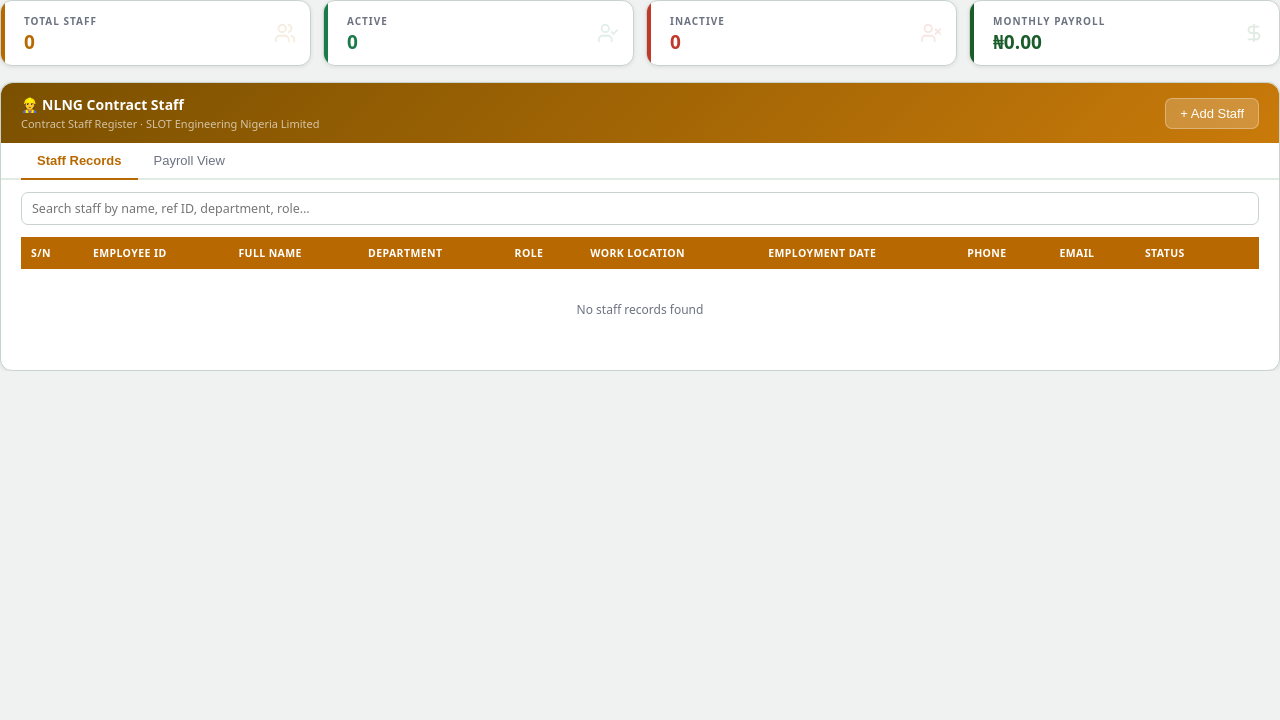
Test case: ContractStaff — Add Staff › renders the Project / Cost Centre dropdown in the Add Staff form without crashing
Click the button "+ Add Staff" at (1212, 113), box 1165,98 -> 1259,128
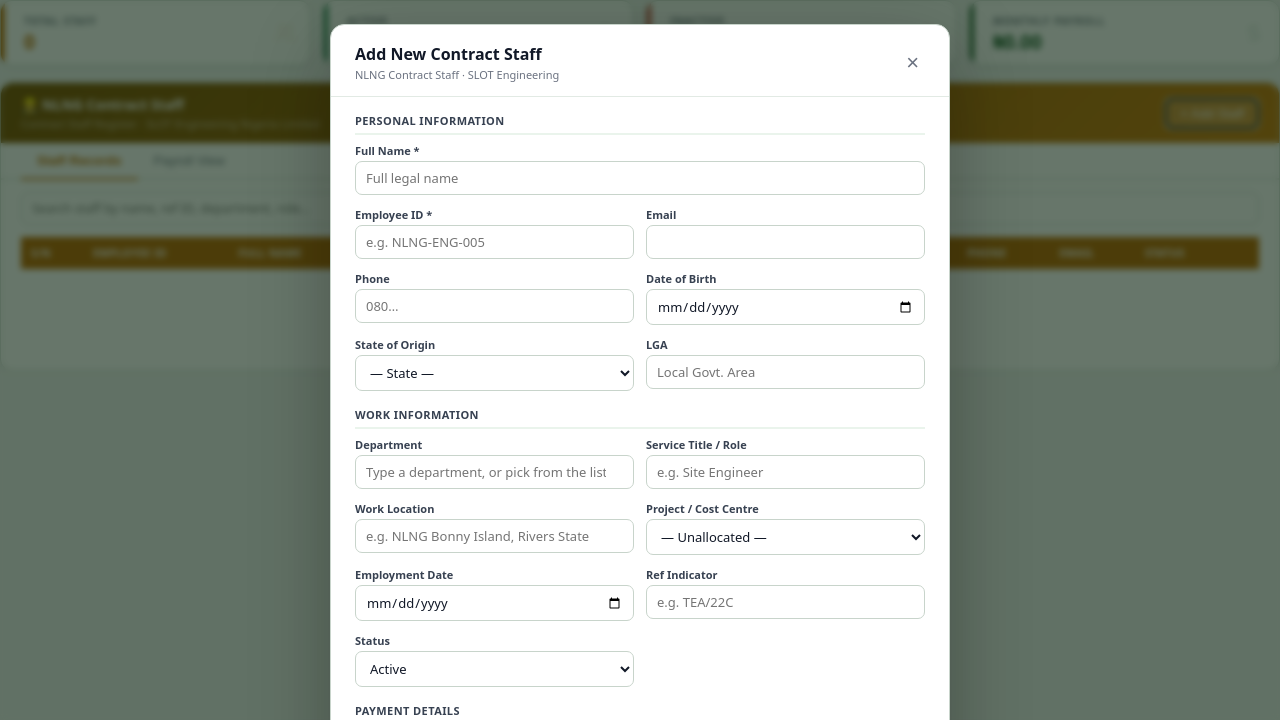
Now the text "Add New Contract Staff" is shown, box 355,43 -> 559,65
